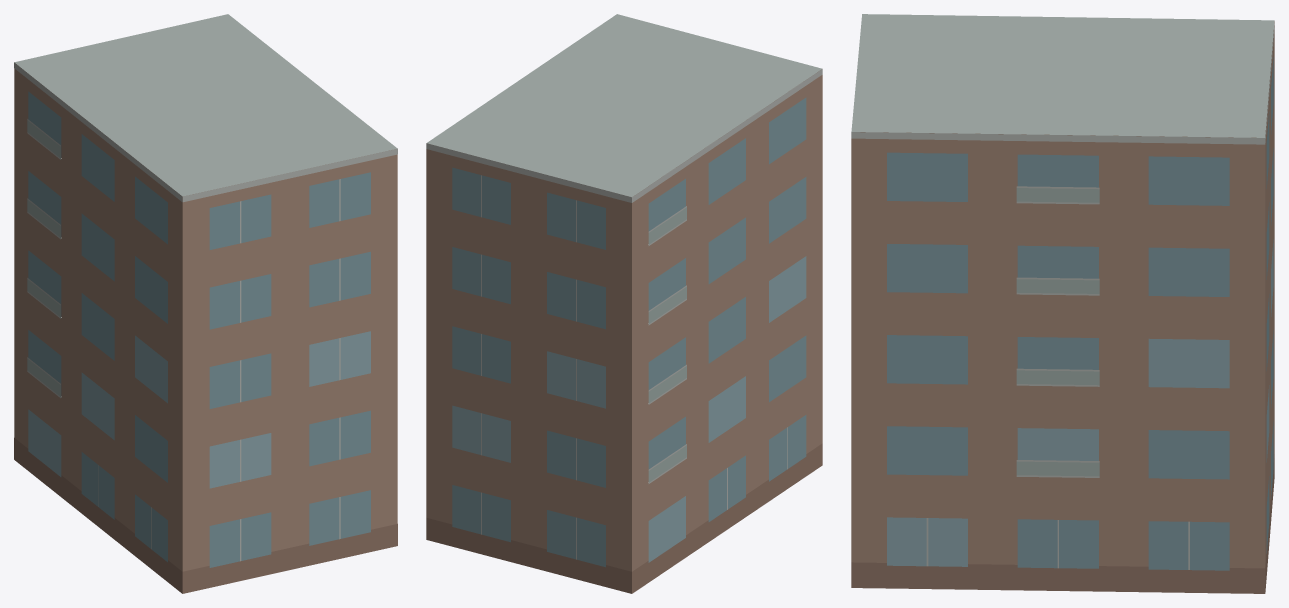
File: survey-upis-33029250.glb
3 views of the same model, side by side, from view 1: azimuth 30°, elevation 25°; view 2: azimuth 150°, elevation 25°; view 3: azimuth 270°, elevation 25° (orthographic). The views are drawn at different scales.
Visible parts, largest first — view 1: survey-upis-33029250.tmp; view 2: survey-upis-33029250.tmp; view 3: survey-upis-33029250.tmp.
Boxes of the visible parts, x1,y1,x2,y2 form: survey-upis-33029250.tmp: (14,14,397,593); survey-upis-33029250.tmp: (426,14,822,593); survey-upis-33029250.tmp: (851,14,1274,593).
Size of the model in its own units: 9.68 by 16.6 by 13.97.
